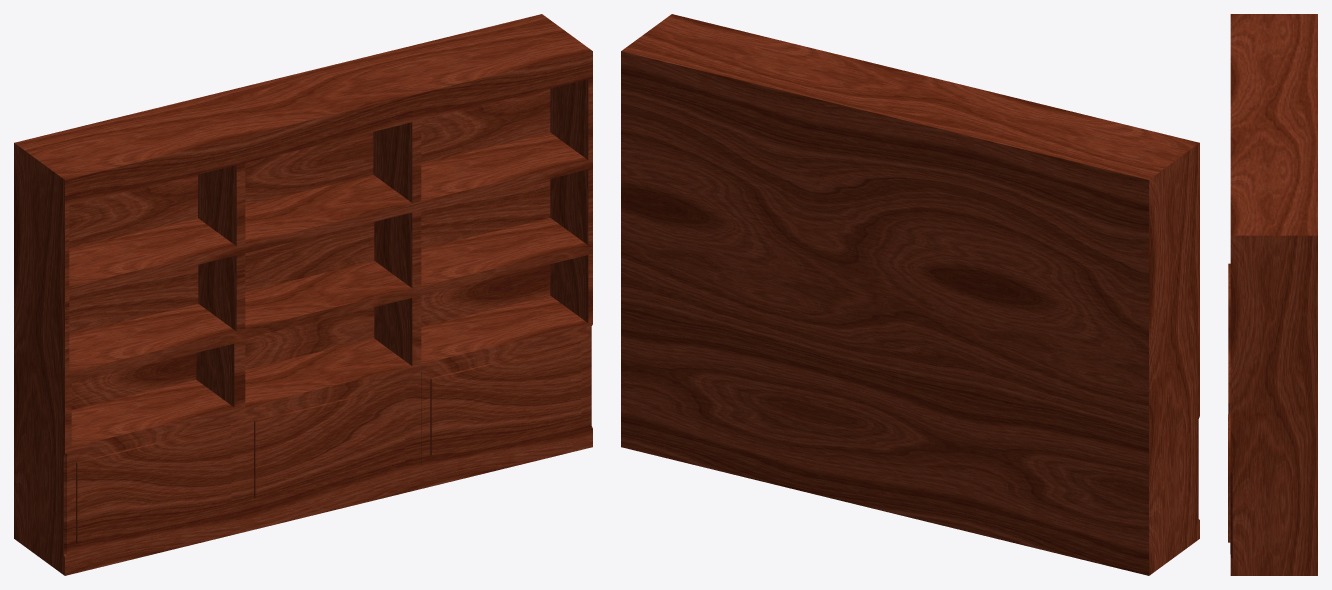
Rendered from bookcase.FBX.
3 views of the same model, side by side, from view 1: azimuth 30°, elevation 25°; view 2: azimuth 150°, elevation 25°; view 3: azimuth 270°, elevation 25° (orthographic). The views are drawn at different scales.
Parts seen in each view (by area): view 1: Box001; view 2: Box001; view 3: Box001.
Boxes of the visible parts, x1,y1,x2,y2 form: Box001: (14,14,592,575); Box001: (621,14,1199,575); Box001: (1228,14,1317,575).
Size of the model in its own units: 240 by 172 by 41.2.
1 material, 1 textured.
